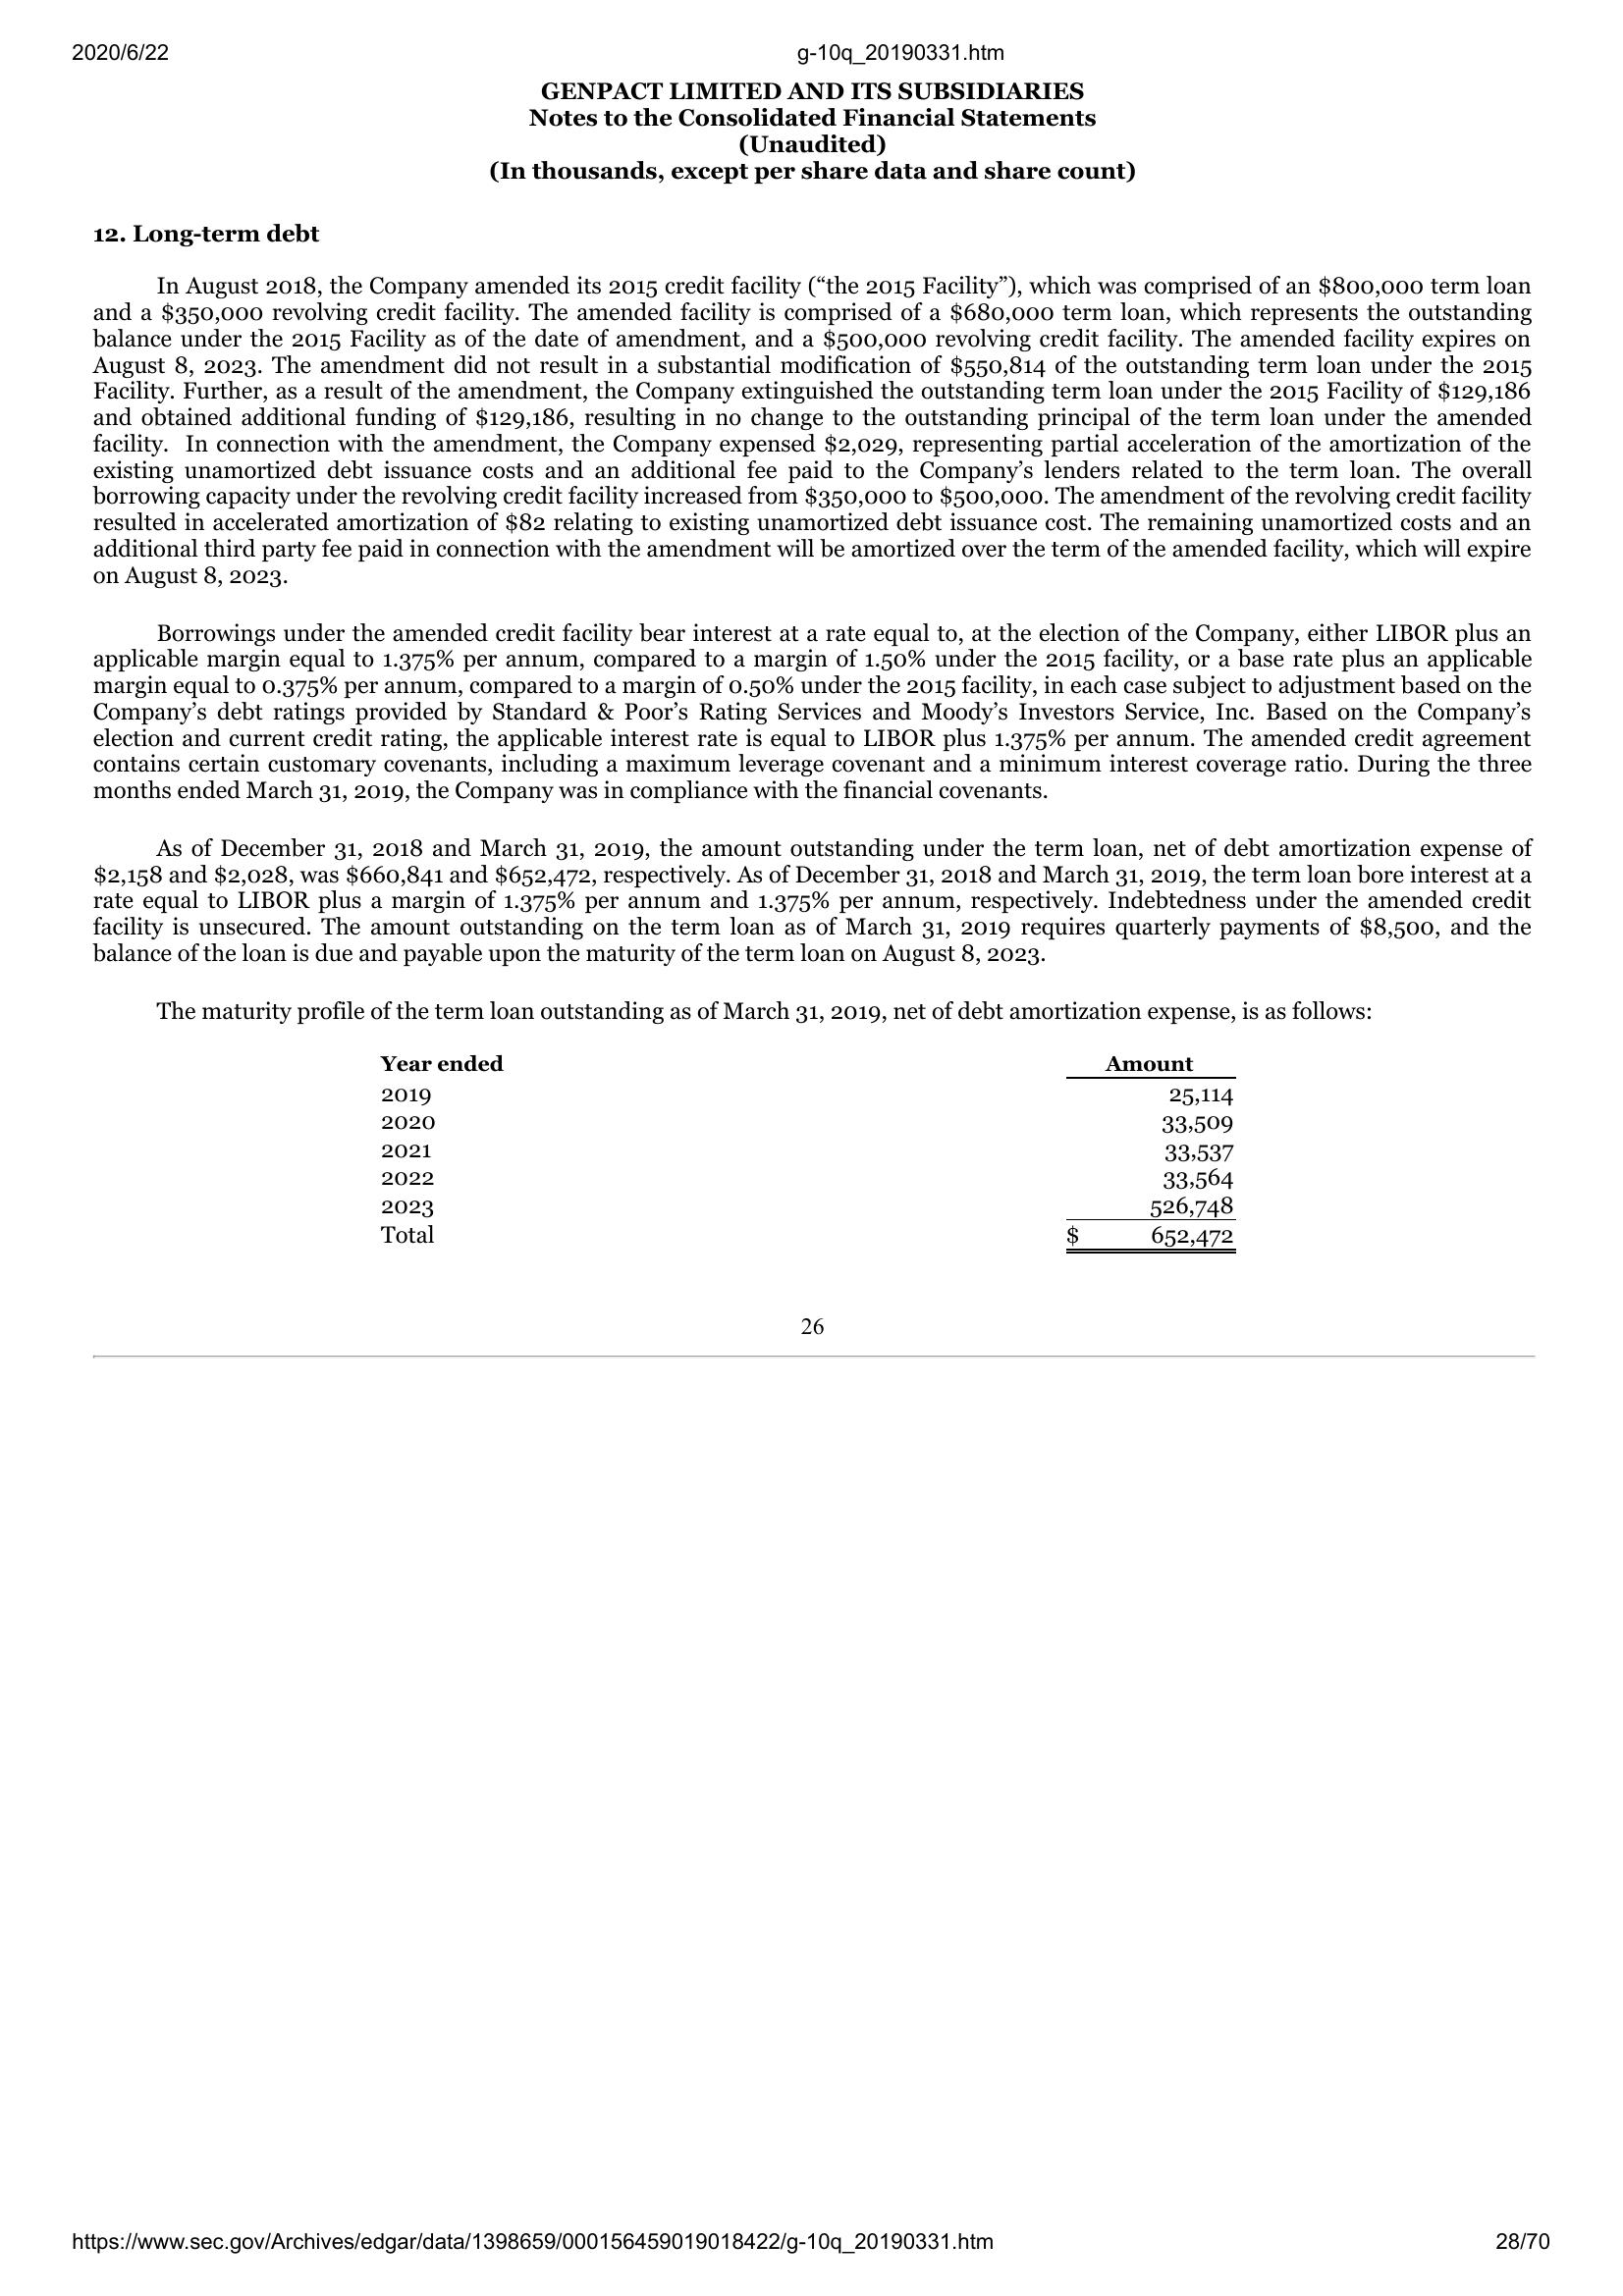table: (372, 1044, 1245, 1260)
